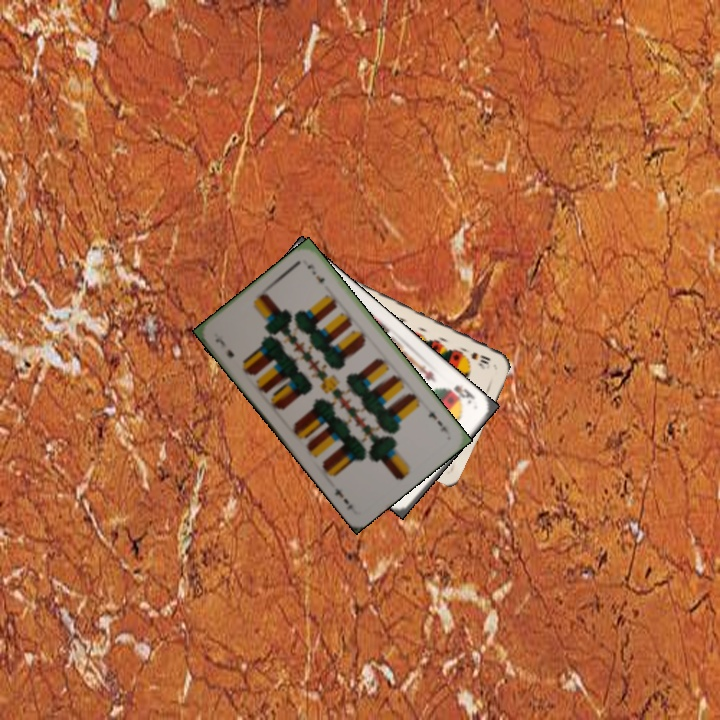E7: (424, 407, 451, 437), (211, 334, 237, 361)
S10: (466, 348, 493, 367)
SK: (441, 380, 478, 407)
